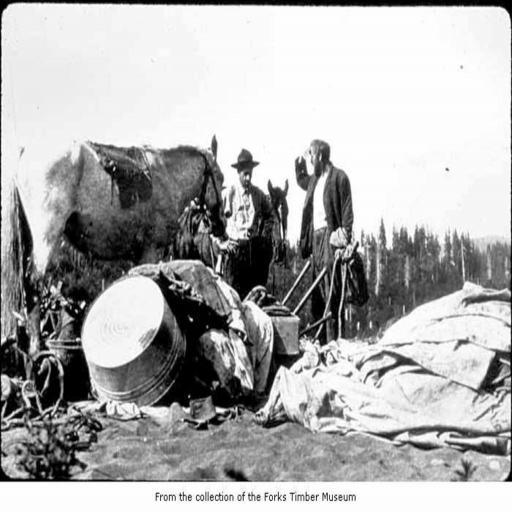horse: (12, 132, 229, 365)
